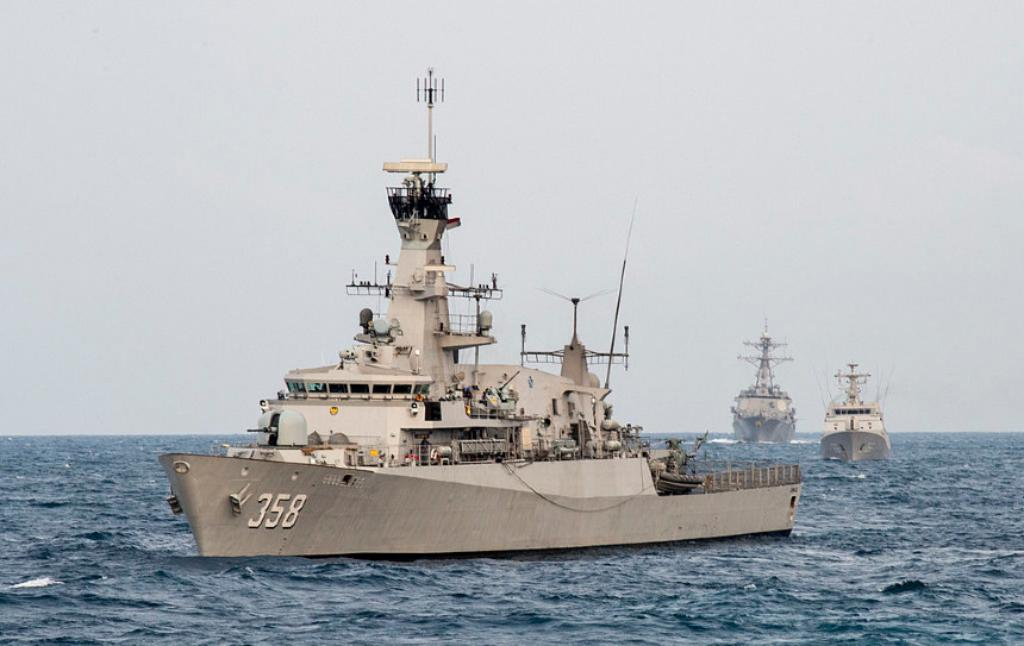Warship: (153, 63, 807, 558), (724, 322, 802, 444), (815, 346, 891, 468)
